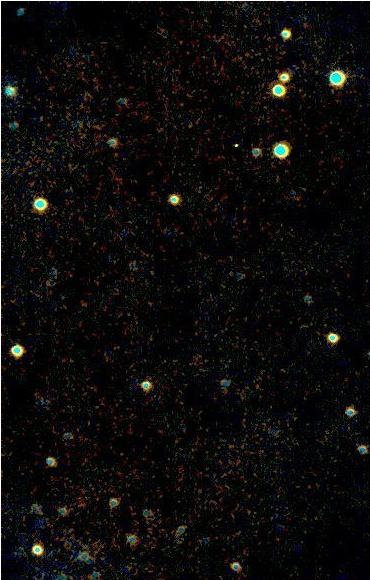star: (69, 289, 99, 319)
